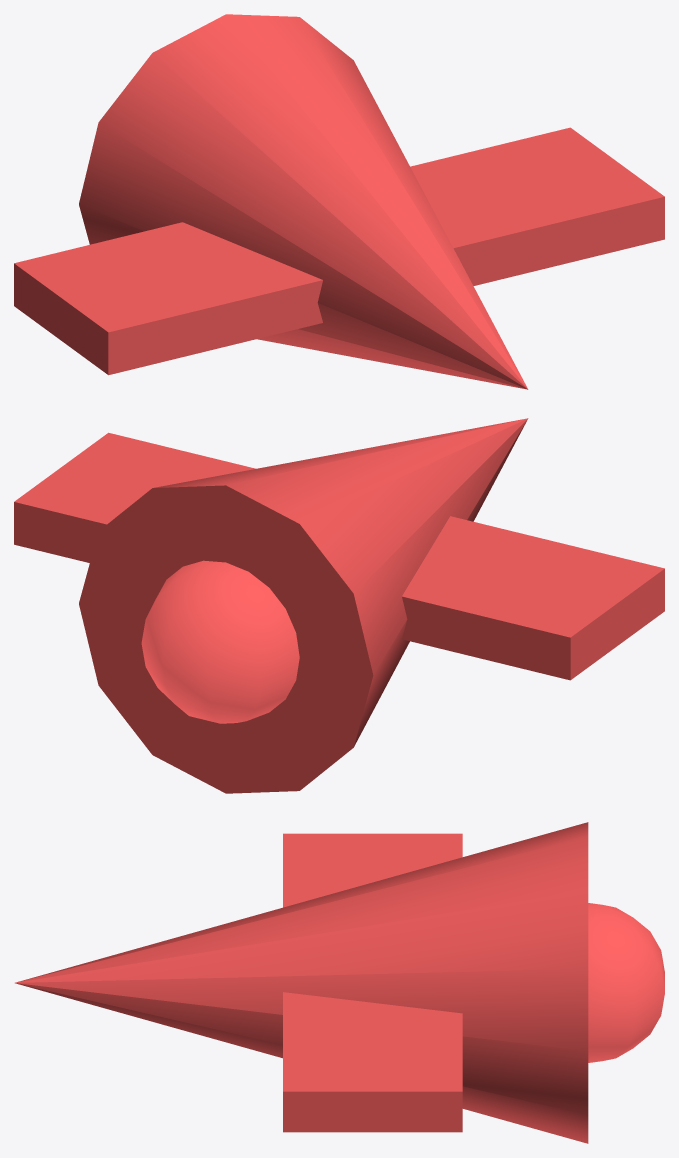
Rendered from fighter.glb.
3 views of the same model, one above another, from view 1: azimuth 30°, elevation 25°; view 2: azimuth 150°, elevation 25°; view 3: azimuth 270°, elevation 25° (orthographic). The views are drawn at different scales.
Size of the model in its own units: 3.4 by 1.8 by 3.63.
